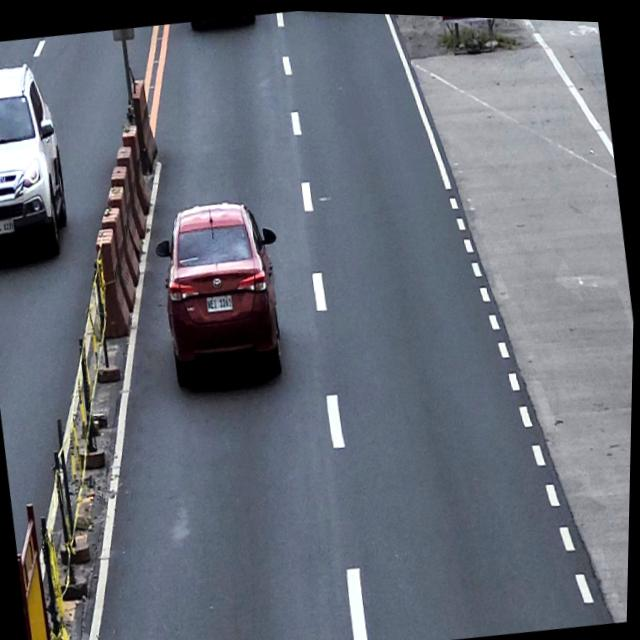Car: (149, 190, 299, 392), (0, 60, 78, 269)
License-Plate: (207, 292, 235, 312), (0, 219, 17, 237)
